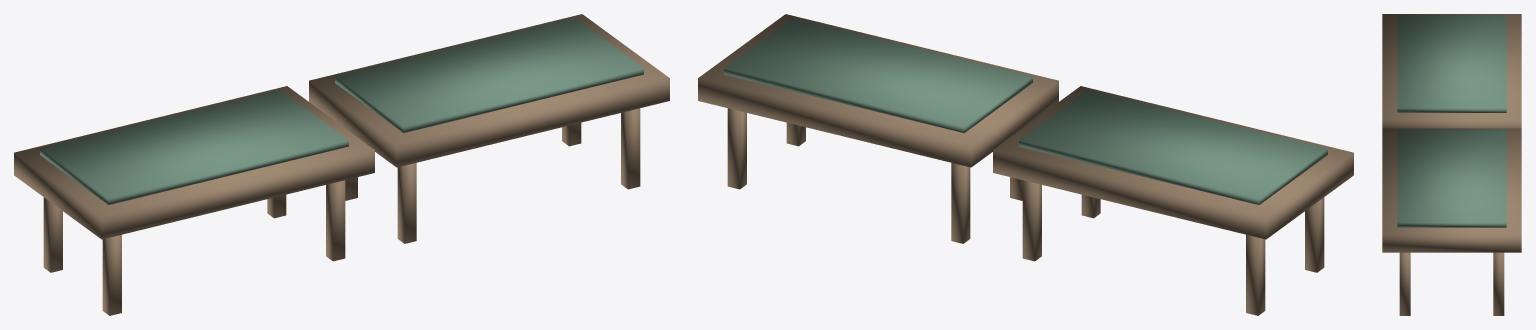
The model's file is pool_table__cluster.glb.
3 views of the same model, side by side, from view 1: azimuth 30°, elevation 25°; view 2: azimuth 150°, elevation 25°; view 3: azimuth 270°, elevation 25° (orthographic). The views are drawn at different scales.
Parts seen in each view (by area): view 1: world; view 2: world; view 3: world.
Boxes of the visible parts, bbox=[...] form: world: bbox=[14, 14, 669, 315]; world: bbox=[698, 14, 1353, 315]; world: bbox=[1382, 14, 1521, 315].
Bounding box in the file's own units: 4.68 × 0.935 × 1.25.
